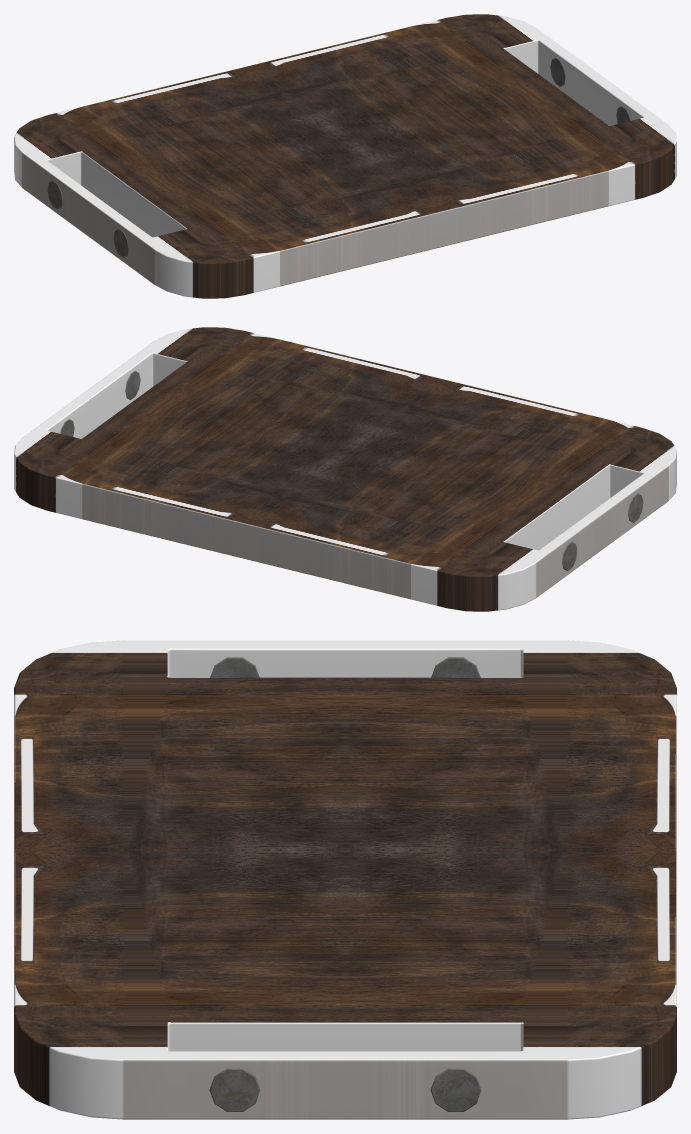
Rendered from taboa.fbx.
3 views of the same model, one above another, from view 1: azimuth 30°, elevation 25°; view 2: azimuth 150°, elevation 25°; view 3: azimuth 270°, elevation 25° (orthographic). The views are drawn at different scales.
Visible parts, largest first — view 1: cube.001, circle; view 2: cube.001, circle; view 3: cube.001, circle.
Part boxes in pixels (box(x1,y1,x2,y2)): cube.001: box(14, 14, 676, 298); circle: box(47, 58, 630, 257); cube.001: box(14, 327, 676, 611); circle: box(60, 371, 643, 570); cube.001: box(14, 640, 676, 1119); circle: box(209, 657, 481, 1111).
Bounding box in the file's own units: 45.12 × 3 × 30.
2 materials, 2 textured.
